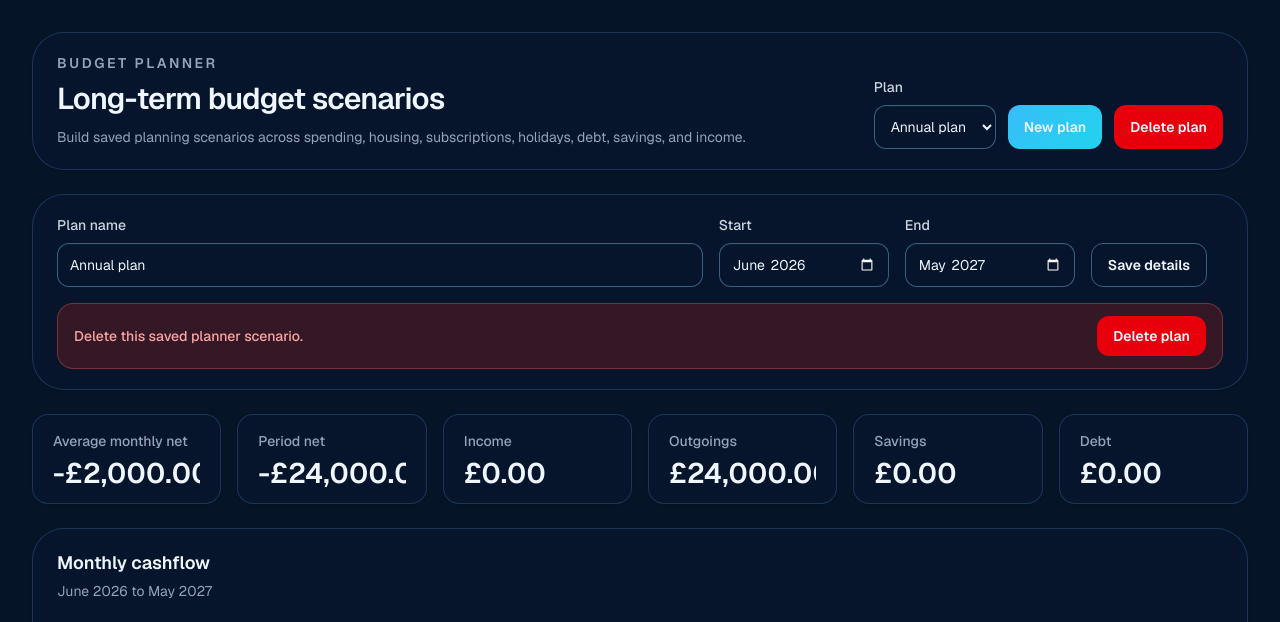
Test case: [Component] BudgetPlannerPage › should delete the selected plan and return to the empty state
This screenshot has width=1280, height=622.
Click the button "Delete plan" in the row of "Long-term budget scenarios" at (1169, 127), box [1114,105,1223,149]
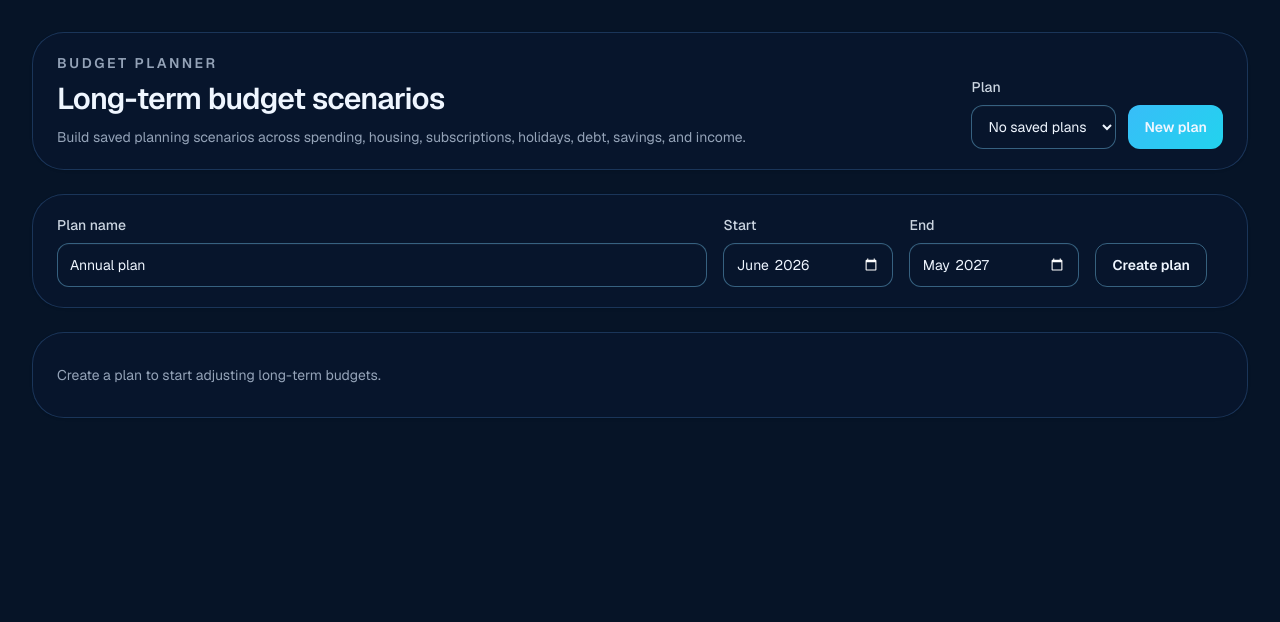
Now the text "Create a plan to start adjusting long-term budgets." is shown, box [32,332,1248,418]
